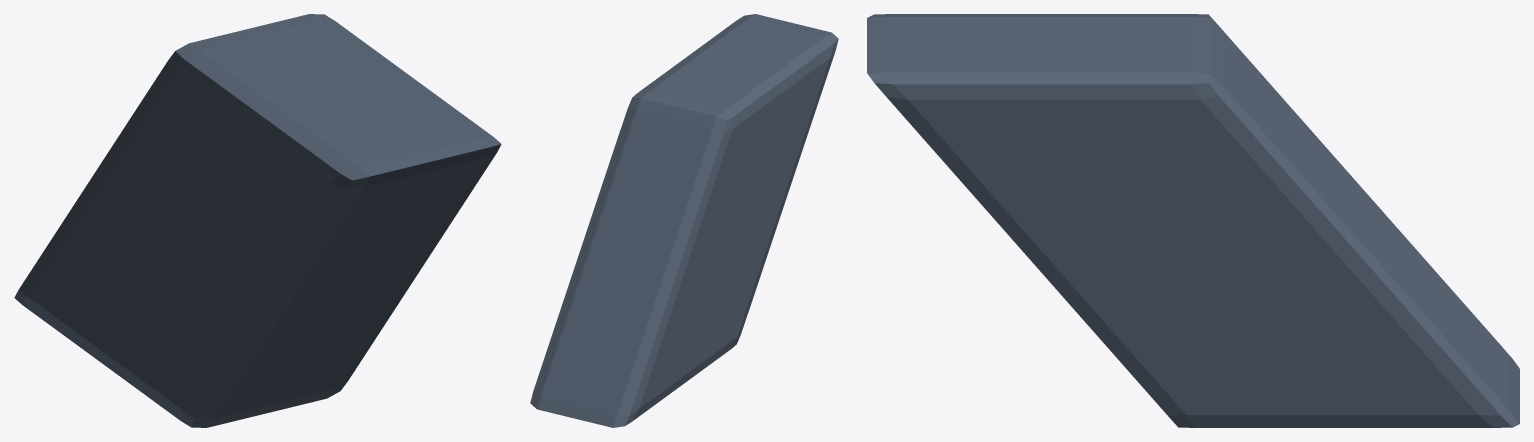
File: helmet__crest__base.glb
3 views of the same model, side by side, from view 1: azimuth 30°, elevation 25°; view 2: azimuth 150°, elevation 25°; view 3: azimuth 270°, elevation 25° (orthographic). The views are drawn at different scales.
Visible parts, largest first — view 1: armor_helmet__crest__base_v001; view 2: armor_helmet__crest__base_v001; view 3: armor_helmet__crest__base_v001.
Boxes of the visible parts, x1,y1,x2,y2 form: armor_helmet__crest__base_v001: (14,14,501,427); armor_helmet__crest__base_v001: (530,14,838,427); armor_helmet__crest__base_v001: (867,14,1519,427).
Bounding box in the file's own units: 0.0248 × 0.0558 × 0.0936.
